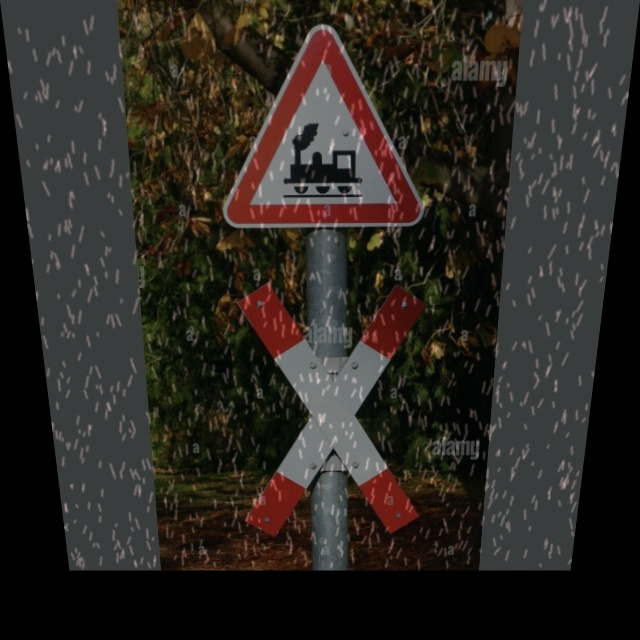Unguarded_Level_Crossing: (235, 52, 429, 228)
